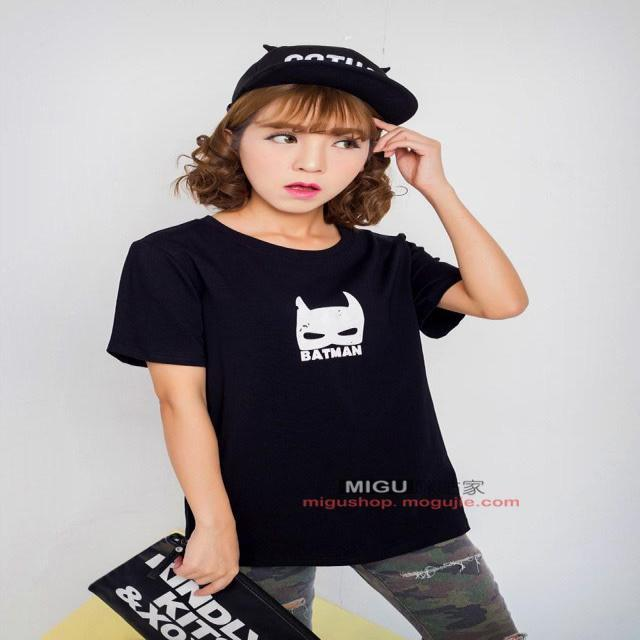short sleeve top: (110, 217, 478, 565)
trousers: (192, 485, 528, 639)
